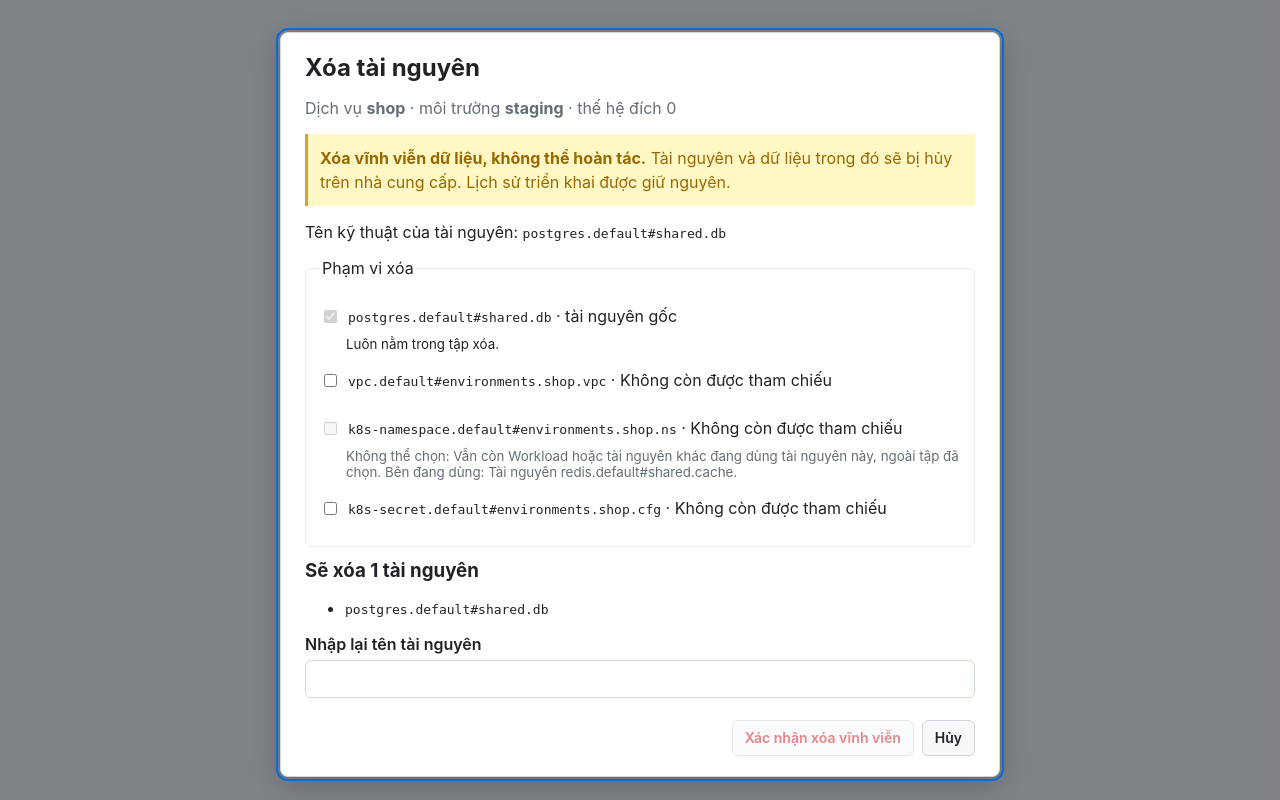
Scenario: deletion dialog (UC-07 DEL-MS-02..04) › treats a wrong name rejected by the server as a retryable input error and never echoes the typed text
This screenshot has width=1280, height=800.
Expected: the text with test id "root-name" is shown, x1=523 y1=226 x2=726 y2=241
Type "postgres.default#shared.db" into the field labelled "Nhập lại tên tài nguyên". click: (640, 679)
box: x1=305 y1=660 x2=975 y2=698
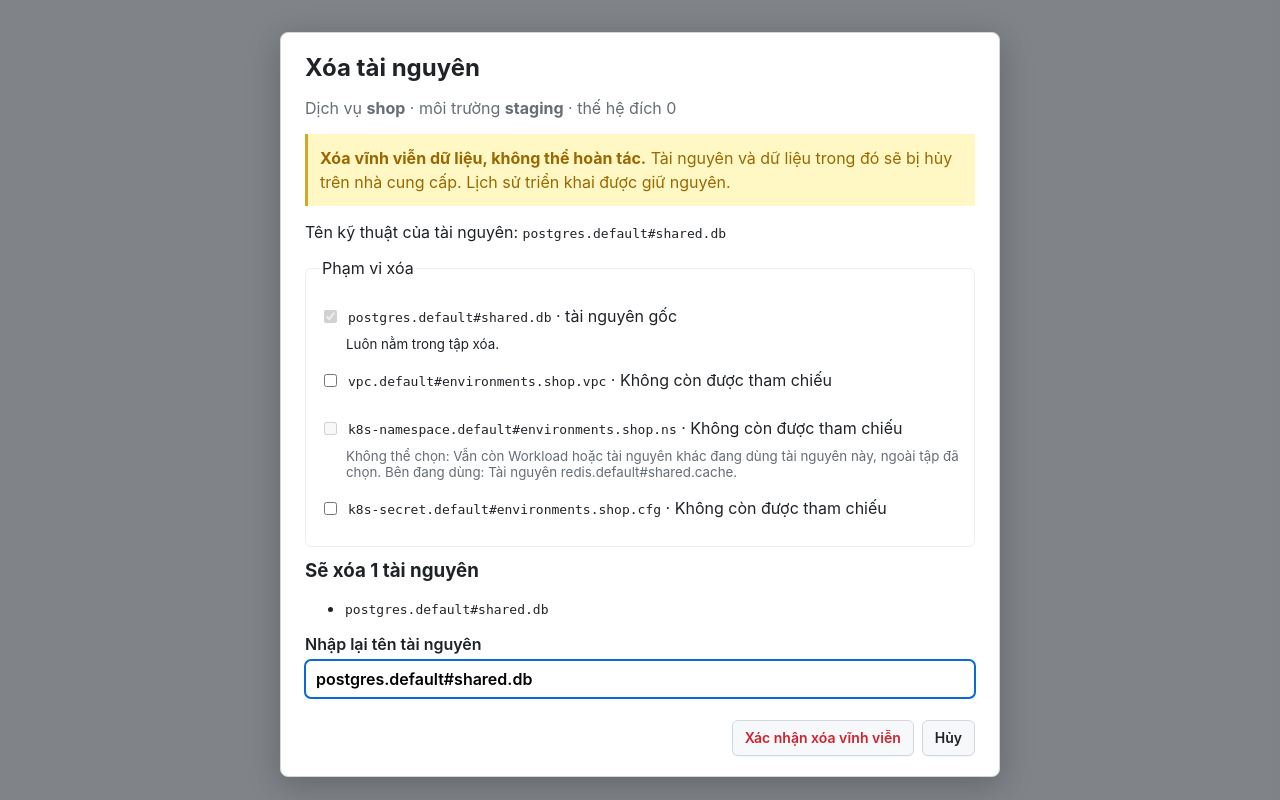
Click the button "Xác nhận xóa vĩnh viễn". click: (823, 738)
box: x1=732 y1=720 x2=914 y2=756
(page scrolled)
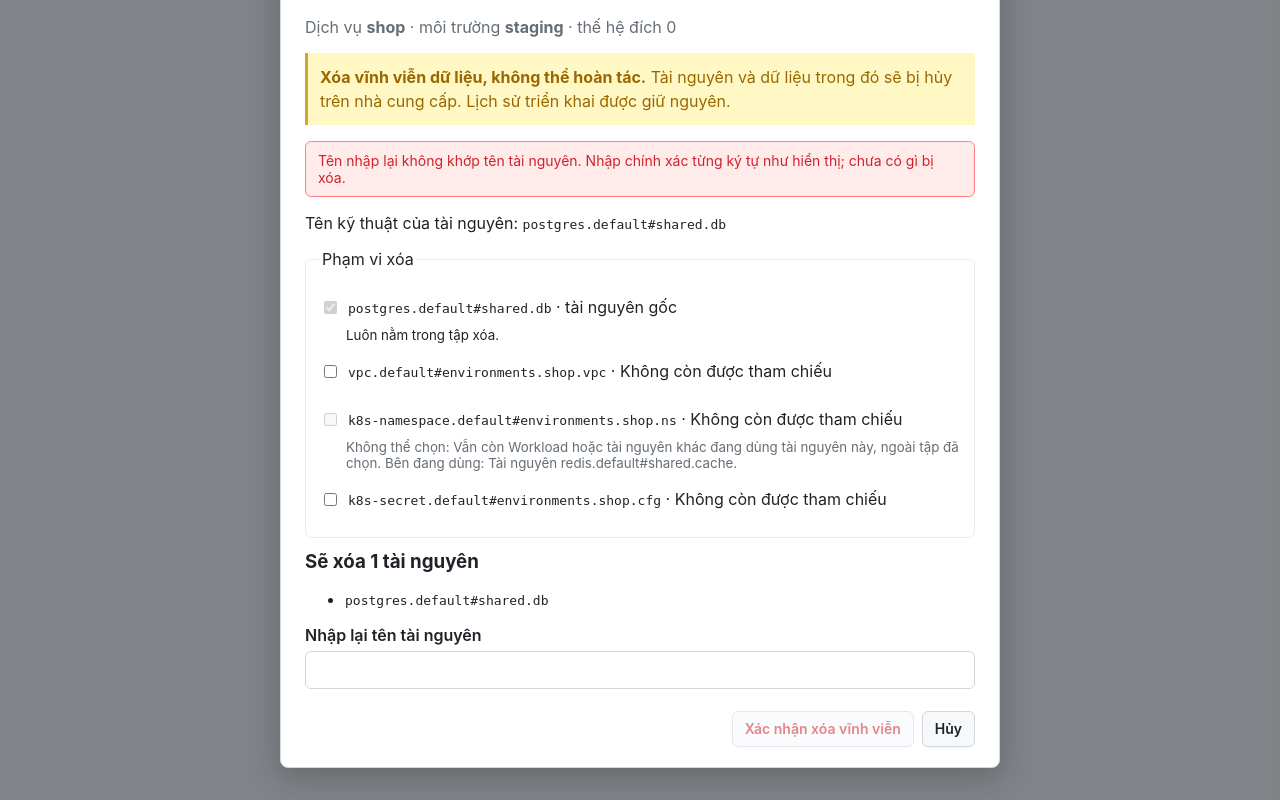
Expected: the message shows "Tên nhập lại không khớp tên tài nguyên", x1=318 y1=152 x2=934 y2=186
Expected: the field labelled "Nhập lại tên tài nguyên" is empty, x1=305 y1=651 x2=975 y2=689
Expected: the button "Xác nhận xóa vĩnh viễn" is disabled, x1=732 y1=711 x2=914 y2=747
